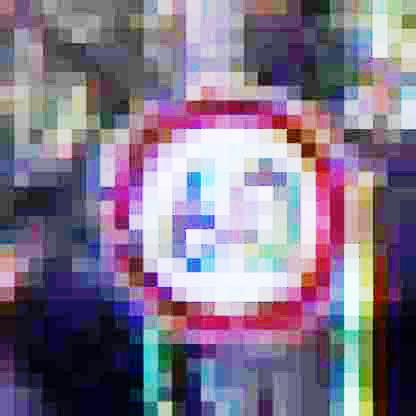Speed Limit -60-: (97, 84, 363, 349)
